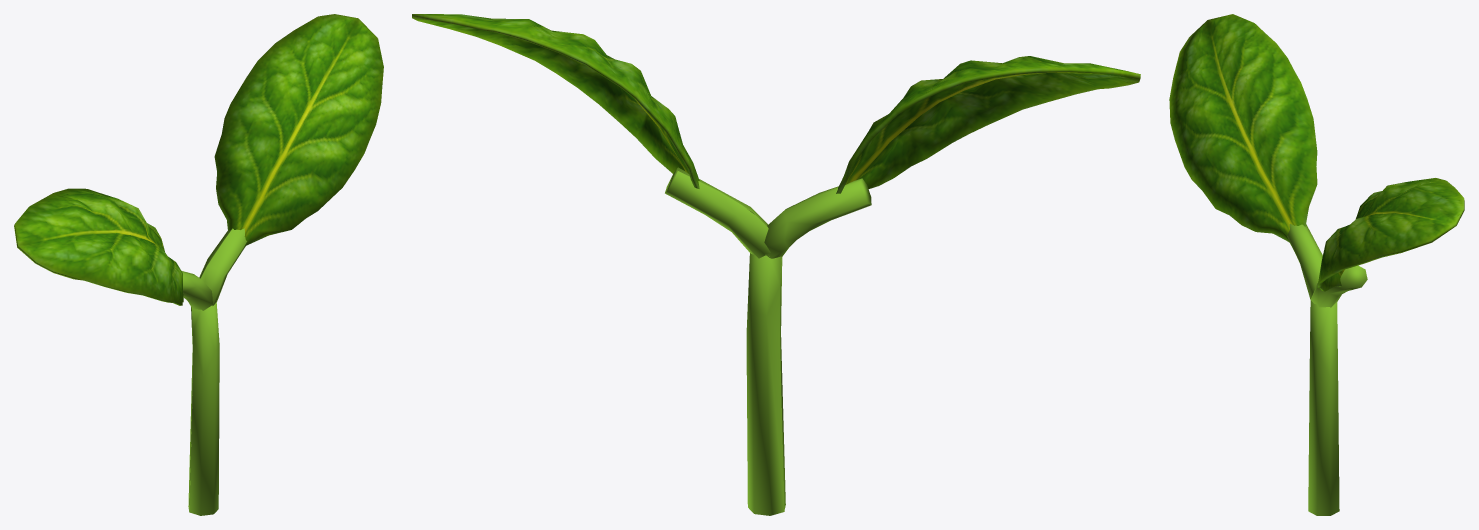
The model's file is NP_Spinach_Sprout_LOD1.fbx.
3 renders of one model, left to right at view 1: azimuth 30°, elevation 25°; view 2: azimuth 150°, elevation 25°; view 3: azimuth 270°, elevation 25°, orthographic. The views are drawn at different scales.
Parts seen in each view (by area): view 1: NP_Spinach_Sprout; view 2: NP_Spinach_Sprout; view 3: NP_Spinach_Sprout.
Part boxes in pixels (bbox=[...]): NP_Spinach_Sprout: bbox=[14, 14, 383, 515]; NP_Spinach_Sprout: bbox=[412, 14, 1140, 515]; NP_Spinach_Sprout: bbox=[1169, 14, 1464, 515].
Bounding box in the file's own units: 27.44 × 22.18 × 14.72.
